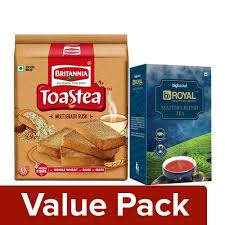Britania-toast-med: (13, 40, 126, 178)
